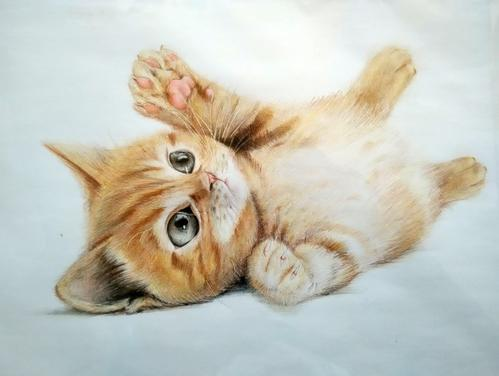cat: (41, 38, 490, 319)
